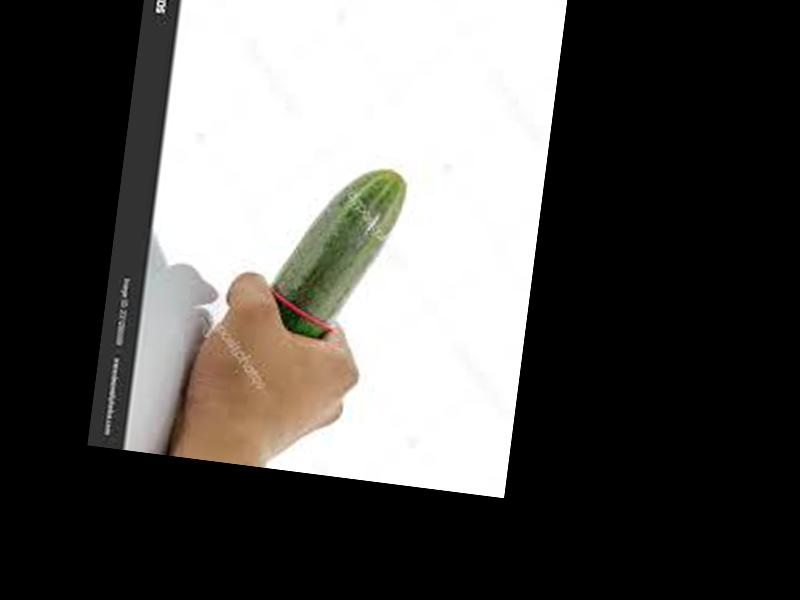Cucumber: (267, 157, 408, 347)
